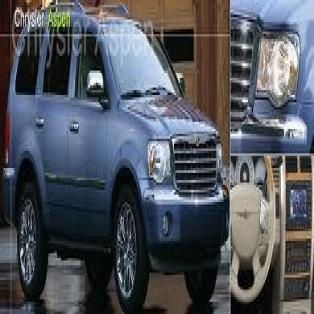Auto: (3, 5, 228, 311)
